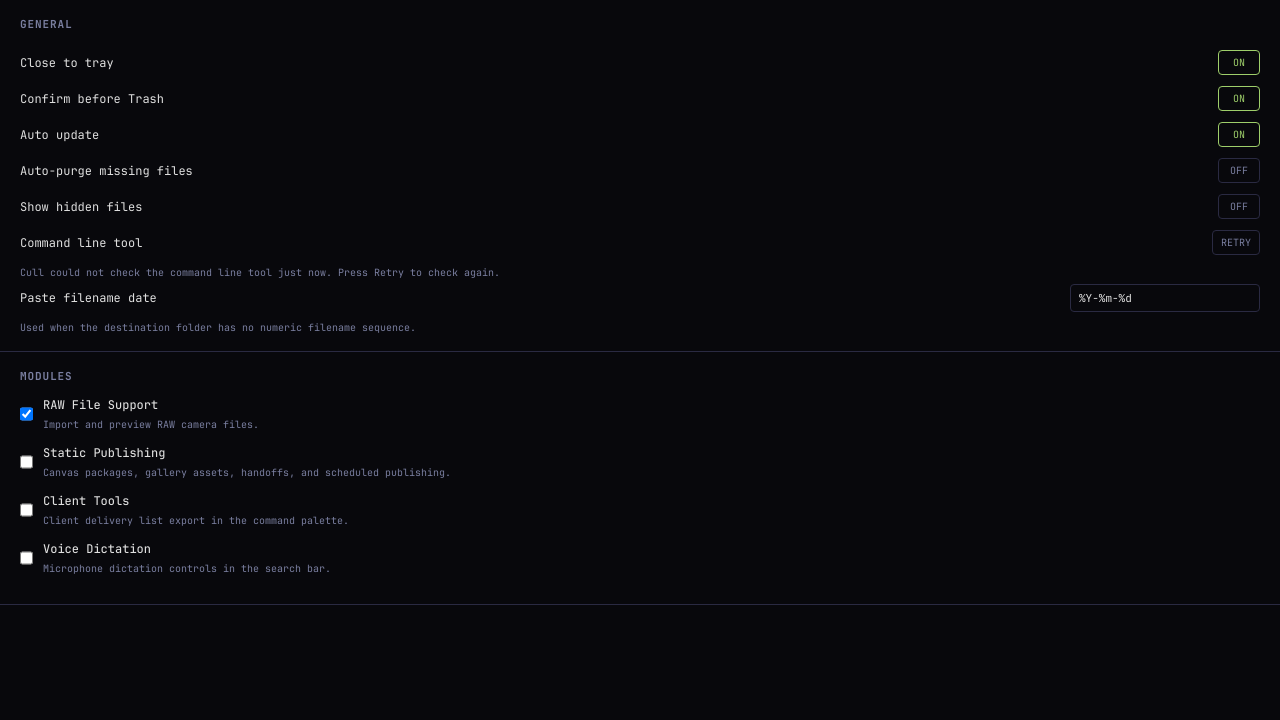
Test case: General Settings: command line tool › recovers to the install action after a successful retry
Click the button with aria-label "Retry command line tool status check" at (1236, 242), box x1=1212 y1=230 x2=1260 y2=255
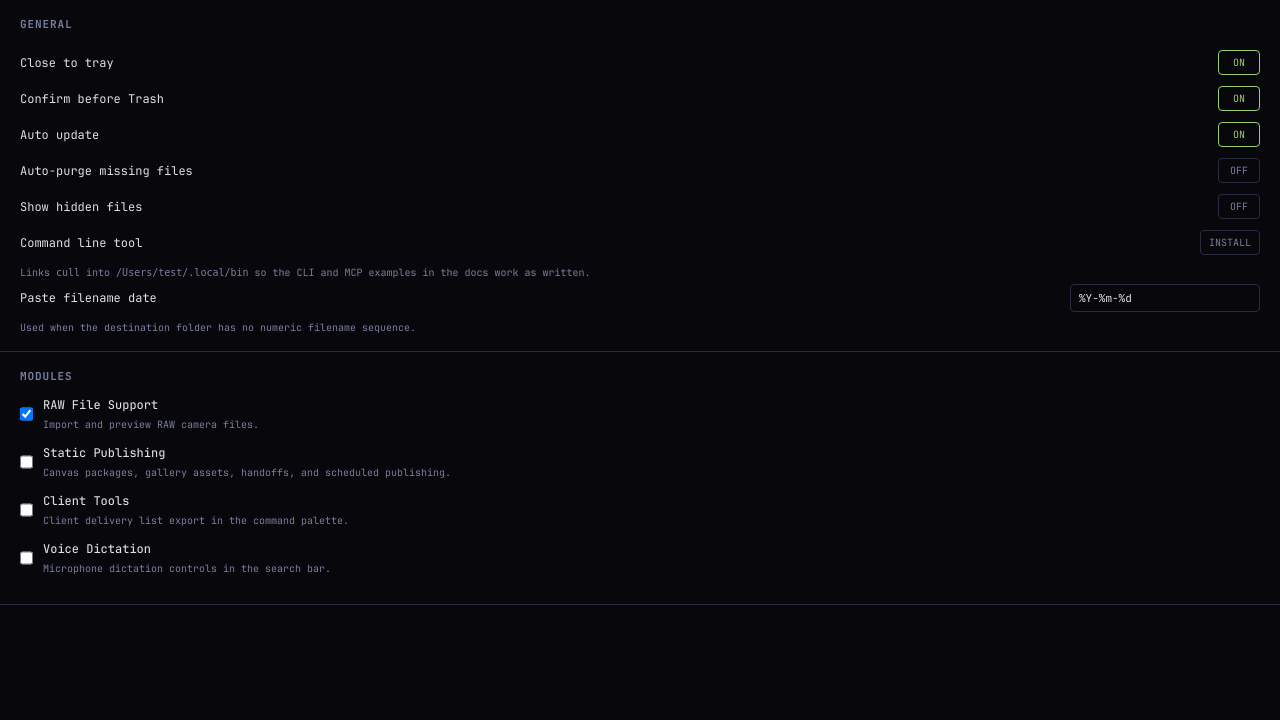
Check: the button with aria-label "Install command line tool" is enabled, box x1=1200 y1=230 x2=1260 y2=255
Check: the message is gone
Check: the text "/Users/test/.local/bin" is shown, box x1=116 y1=266 x2=249 y2=278
